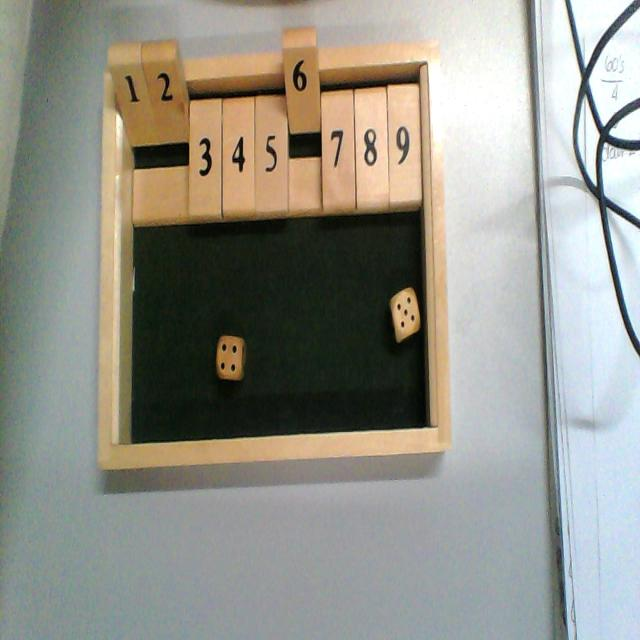4: (214, 331, 248, 383)
5: (386, 285, 424, 345)
C3: (188, 58, 223, 225)
C4: (221, 55, 256, 222)
C5: (254, 54, 288, 220)
C7: (321, 48, 356, 215)
C8: (354, 45, 389, 215)
C9: (388, 43, 423, 212)
O1: (109, 44, 160, 227)
O2: (141, 43, 189, 226)
O6: (282, 30, 322, 216)
